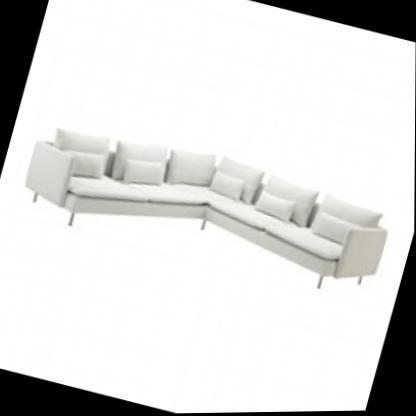Sofa: (3, 89, 408, 323)
